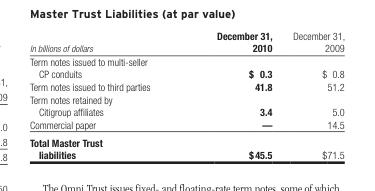table: (28, 29, 344, 160)
table column: (28, 29, 182, 160), (182, 29, 282, 160), (282, 29, 344, 160)
table column header: (28, 29, 344, 54)
table projected row header: (28, 133, 344, 148), (28, 54, 344, 67), (28, 93, 344, 105)
table row: (28, 29, 344, 54), (28, 117, 344, 133), (28, 133, 344, 148), (28, 54, 344, 67), (28, 67, 344, 80), (28, 80, 344, 93), (28, 93, 344, 105), (28, 105, 344, 117), (28, 148, 344, 160)
